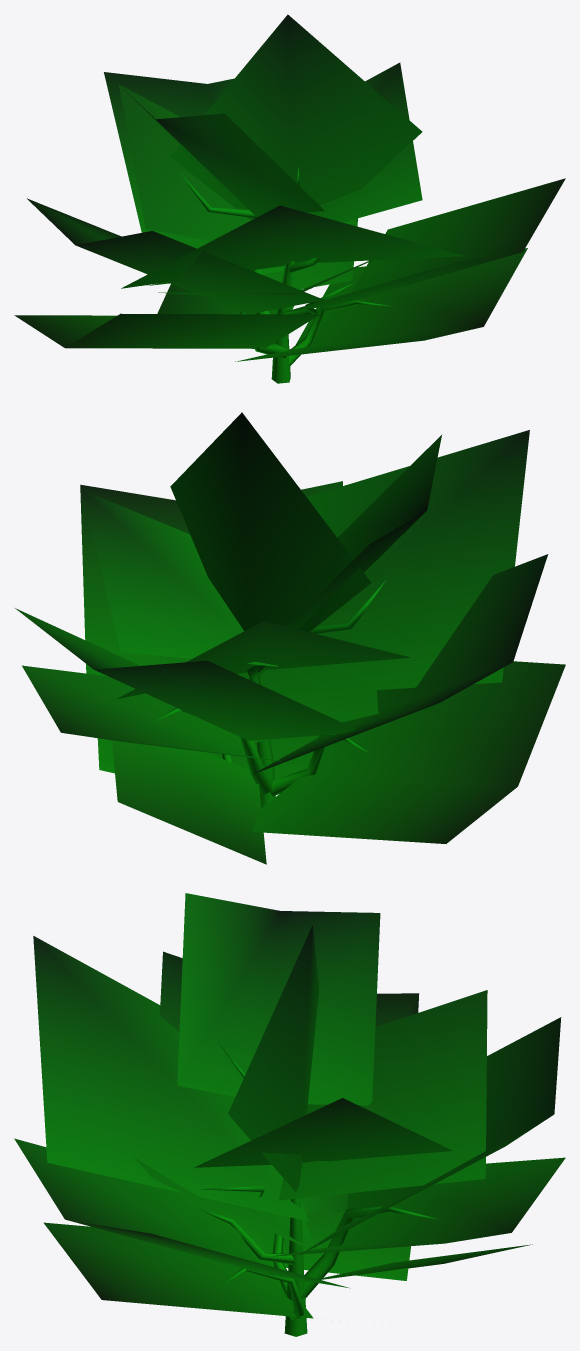
Rendered from env_burntforest_smallbush01.fbx.
The picture shows the model from 3 angles, top to bottom: view 1: azimuth 30°, elevation 25°; view 2: azimuth 150°, elevation 25°; view 3: azimuth 270°, elevation 25°; orthographic projection. The views are drawn at different scales.
Visible parts, largest first — view 1: env_burntforest_smallbush01; view 2: env_burntforest_smallbush01; view 3: env_burntforest_smallbush01.
Part boxes in pixels (left/top/right/bottom): env_burntforest_smallbush01: left=14, top=14, right=565, bottom=383; env_burntforest_smallbush01: left=15, top=412, right=565, bottom=864; env_burntforest_smallbush01: left=14, top=893, right=565, bottom=1336.
Size of the model in its own units: 17.16 by 13.32 by 16.07.
